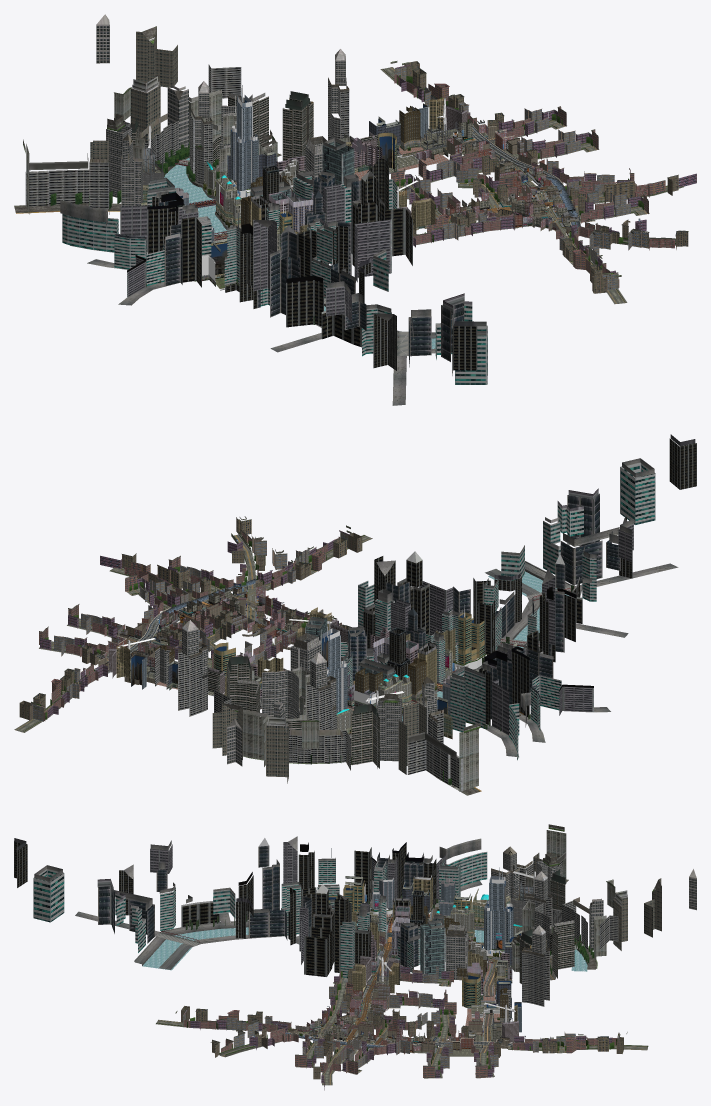
Rendered from downtown.glb.
3 renders of one model, top to bottom at view 1: azimuth 30°, elevation 25°; view 2: azimuth 150°, elevation 25°; view 3: azimuth 270°, elevation 25°, orthographic. The views are drawn at different scales.
Visible parts, largest first — view 1: mesh; view 2: mesh; view 3: mesh.
Part boxes in pixels (x1=…): mesh: x1=14, y1=14, x2=696, y2=405; mesh: x1=14, y1=434, x2=696, y2=795; mesh: x1=14, y1=824, x2=696, y2=1090.
Size of what is drawn, in the model's own units: 2796 by 524 by 3627.
Materials: 99 (98 with a texture image).
